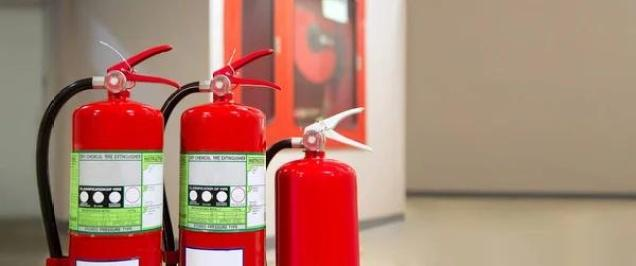APAR: (66, 42, 178, 265), (178, 48, 280, 265), (273, 107, 370, 265)
